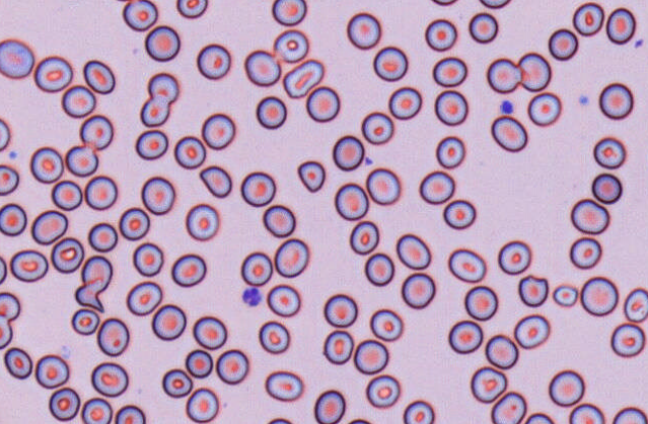PLT: (241, 287, 264, 308), (500, 100, 514, 115), (579, 93, 590, 104)
RBC: (580, 276, 618, 316), (34, 55, 73, 92), (570, 198, 610, 234), (469, 366, 507, 403), (447, 247, 486, 283), (0, 38, 34, 79), (548, 369, 585, 406), (490, 115, 527, 152), (90, 361, 128, 397), (274, 238, 309, 277), (513, 313, 550, 349), (244, 49, 280, 86), (365, 167, 400, 205), (517, 52, 551, 91), (141, 176, 175, 215), (126, 280, 162, 316), (31, 209, 67, 245), (144, 25, 180, 61), (395, 233, 431, 269), (151, 303, 186, 340), (305, 85, 340, 122), (346, 12, 381, 49), (598, 82, 633, 119), (334, 182, 368, 220), (185, 203, 219, 241), (96, 317, 129, 356), (9, 249, 48, 282), (353, 339, 389, 374), (486, 57, 521, 93), (240, 171, 276, 206), (196, 43, 231, 79), (50, 236, 84, 273), (401, 272, 435, 309), (201, 112, 235, 149), (29, 146, 63, 183), (192, 315, 227, 350), (610, 322, 645, 357), (448, 319, 483, 354), (215, 348, 249, 384), (418, 170, 454, 204), (79, 114, 113, 150), (373, 45, 407, 81), (434, 89, 468, 125), (264, 370, 303, 401), (185, 387, 219, 422), (484, 334, 518, 369), (365, 374, 400, 408), (61, 84, 96, 118), (171, 253, 206, 287), (464, 285, 498, 320), (81, 255, 112, 293), (35, 354, 69, 388), (323, 293, 357, 327), (497, 240, 531, 274), (527, 92, 561, 126), (84, 175, 117, 210), (273, 29, 308, 62), (490, 391, 526, 423), (332, 135, 364, 171), (369, 308, 403, 341), (173, 135, 206, 169), (266, 284, 300, 317), (322, 329, 354, 364), (240, 251, 272, 286), (83, 59, 115, 94), (122, 0, 158, 31), (606, 7, 636, 44), (65, 144, 98, 177), (262, 204, 295, 237), (569, 236, 602, 269), (424, 18, 457, 51), (361, 111, 394, 144), (593, 136, 626, 169), (388, 86, 421, 119), (48, 387, 80, 421), (313, 389, 345, 423), (572, 2, 604, 36), (258, 320, 290, 354), (432, 56, 467, 87), (118, 207, 150, 240), (132, 242, 163, 276), (255, 95, 286, 129), (135, 129, 168, 160), (349, 220, 379, 254), (364, 252, 394, 286), (442, 199, 476, 229), (591, 172, 622, 204), (435, 135, 465, 168), (147, 72, 178, 103), (51, 179, 82, 210), (161, 368, 193, 398), (548, 28, 578, 60), (140, 94, 169, 127), (3, 346, 32, 379), (468, 12, 498, 43), (0, 202, 27, 236), (271, 0, 306, 26), (87, 222, 117, 252), (623, 287, 647, 322), (185, 349, 213, 378), (81, 397, 112, 423), (402, 399, 434, 423), (71, 308, 99, 335), (568, 403, 604, 423), (552, 283, 578, 307), (0, 291, 20, 321), (612, 406, 647, 423), (0, 164, 19, 195), (114, 404, 145, 423), (176, 0, 207, 18), (0, 315, 12, 349), (0, 118, 10, 151), (524, 412, 554, 423), (479, 0, 511, 8), (0, 255, 7, 284), (431, 0, 458, 6), (267, 417, 292, 423), (347, 417, 371, 423)
Schistocyte: (282, 60, 326, 99), (198, 164, 231, 198), (518, 275, 550, 307), (297, 160, 325, 194), (77, 280, 105, 312)
